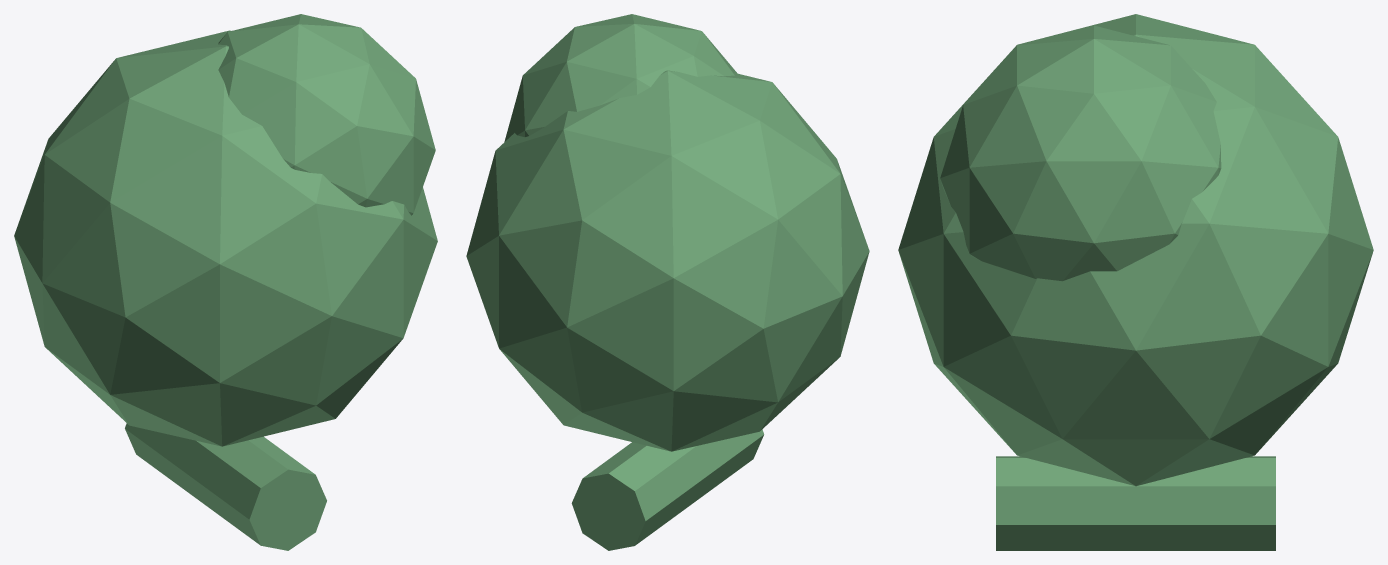
The model's file is tree.glb.
3 renders of one model, left to right at view 1: azimuth 30°, elevation 25°; view 2: azimuth 150°, elevation 25°; view 3: azimuth 270°, elevation 25°, orthographic. The views are drawn at different scales.
Visible parts, largest first — view 1: geometry_0; view 2: geometry_0; view 3: geometry_0.
Part boxes in pixels (x1,y1,x2,y2): geometry_0: [14, 14, 437, 550]; geometry_0: [466, 14, 869, 550]; geometry_0: [898, 14, 1373, 550].
Size of the model in its own units: 1.7 by 2.13 by 1.7.
